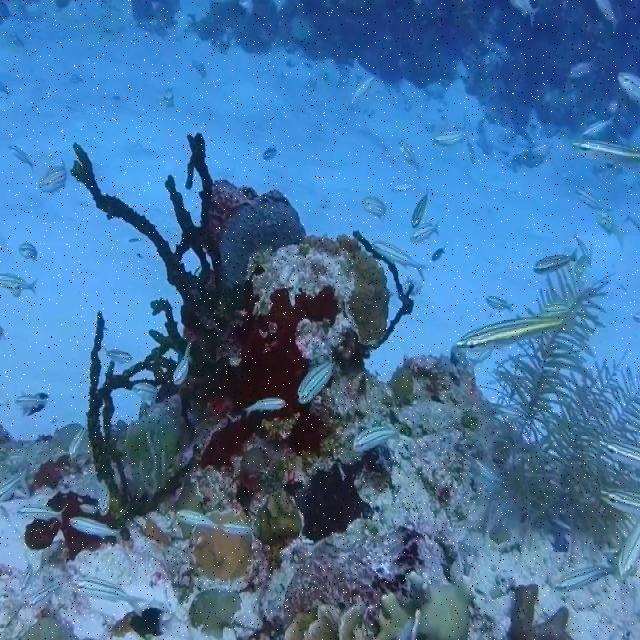aquatic plants: (492, 267, 639, 548)
fish: (459, 316, 562, 352), (300, 359, 338, 403), (550, 567, 617, 590), (352, 421, 402, 450), (621, 514, 639, 575), (603, 438, 639, 465), (601, 485, 638, 511), (245, 397, 285, 416), (174, 342, 191, 385)
reefs: (73, 132, 496, 639)
